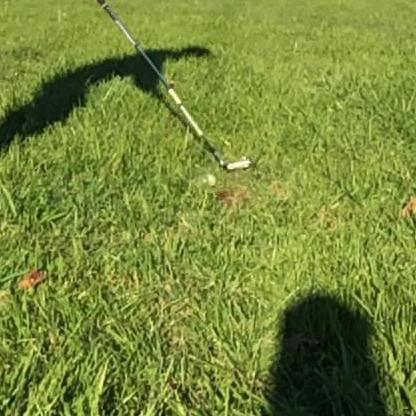golfball: (200, 170, 215, 185)
